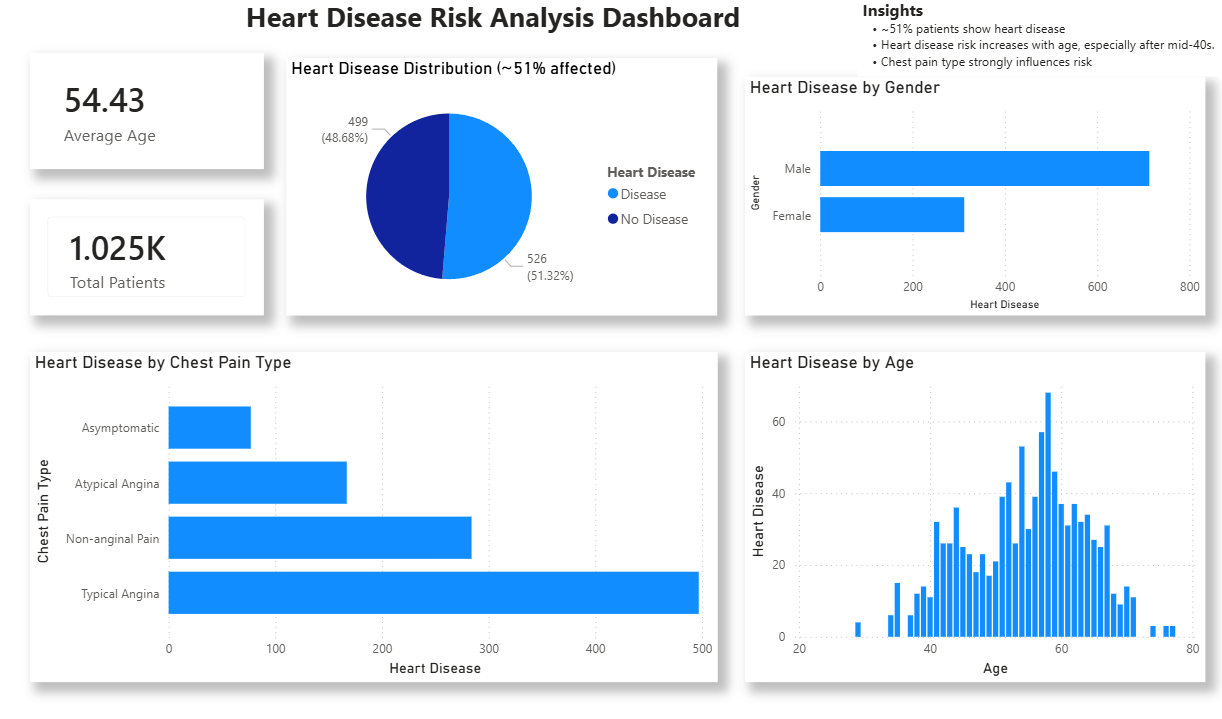

The dashboard page shown, as its layout file describes it:
{"tool":"powerbi","page":{"name":"Page 1","canvas":[1280,720],"ordinal":0},"visuals":[{"type":"textbox","box":[222.6,0,676.2,45.2],"z":0},{"type":"cardVisual","fields":{"Data":["Avg(heart.Age)"]},"box":[107.6,58.7,228.7,113.7],"z":1000},{"type":"cardVisual","fields":{"Data":["CountNonNull(heart.Age)"]},"box":[107.6,201.8,228.7,113.7],"z":2000},{"type":"pieChart","title":"Heart Disease Distribution (~51% affected)","fields":{"Category":["heart.Heart Disease"],"Y":["CountNonNull(heart.Age)"]},"box":[358.3,63.6,421.9,251.9],"z":3000},{"type":"clusteredColumnChart","fields":{"Category":["heart.Age"],"Y":["CountNonNull(heart.Heart Disease)"]},"box":[807.1,351,450,322.8],"z":4000},{"type":"clusteredBarChart","fields":{"Category":["heart.Chest Pain Type"],"Y":["CountNonNull(heart.Heart Disease)"]},"box":[107.6,351,672.6,322.8],"z":4001},{"type":"clusteredBarChart","fields":{"Category":["heart.Gender"],"Y":["CountNonNull(heart.Heart Disease)"]},"box":[807.1,81.9,450,233.6],"z":4002},{"type":"textbox","box":[917.1,0,363.2,81.9],"z":4003}]}

Visuals, with their boxes in screenshot pixels (x1, y1, x2, y2):
textbox: crop(155, 3, 840, 49)
cardVisual - Avg(heart.Age): crop(39, 63, 270, 178)
cardVisual - CountNonNull(heart.Age): crop(39, 207, 270, 322)
"Heart Disease Distribution (~51% affected)" pieChart: crop(293, 68, 720, 322)
clusteredColumnChart - heart.Age x CountNonNull(heart.Heart Disease): crop(747, 358, 1202, 685)
clusteredBarChart - heart.Chest Pain Type x CountNonNull(heart.Heart Disease): crop(39, 358, 720, 685)
clusteredBarChart - heart.Gender x CountNonNull(heart.Heart Disease): crop(747, 86, 1202, 322)
textbox: crop(858, 3, 1221, 86)
